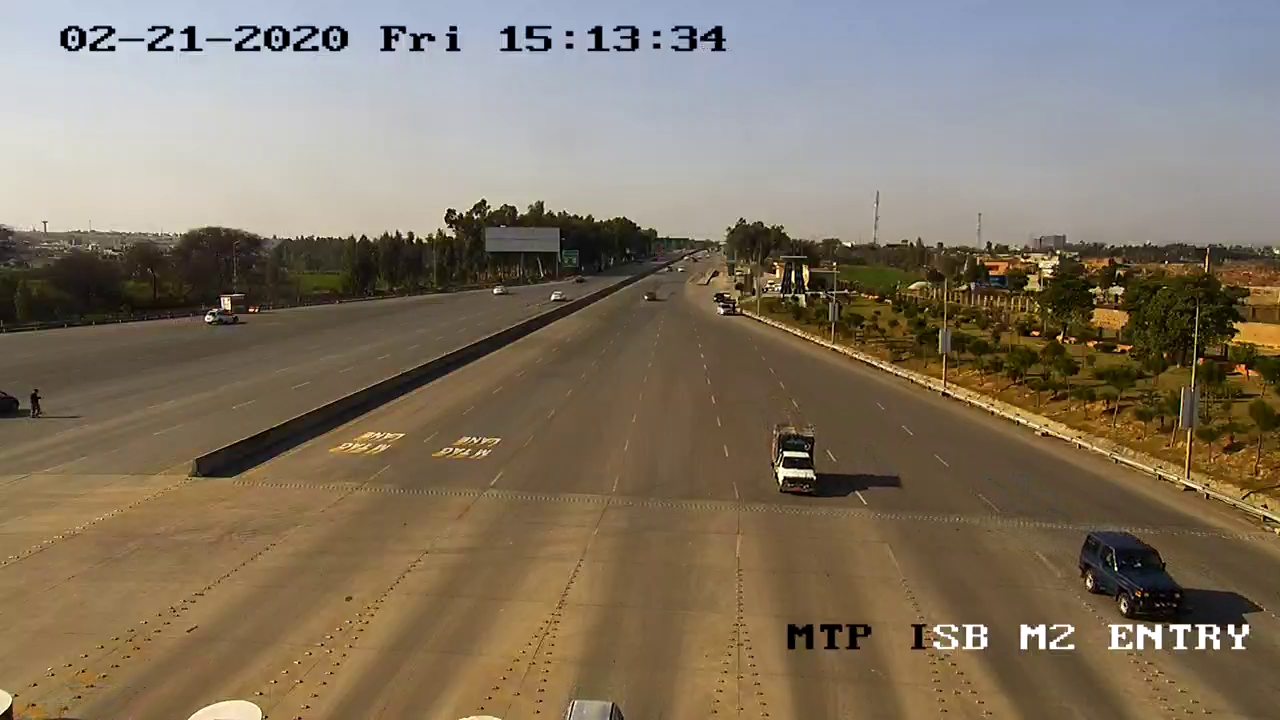f1: (1074, 518, 1196, 624), (765, 415, 826, 507)
